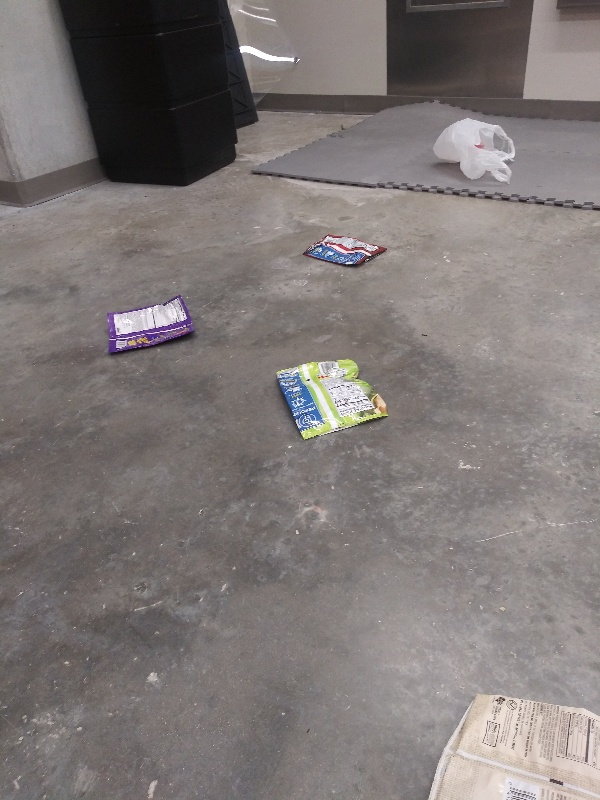bag: (420, 687, 599, 800), (268, 354, 392, 446), (98, 292, 200, 359), (299, 232, 389, 269)
